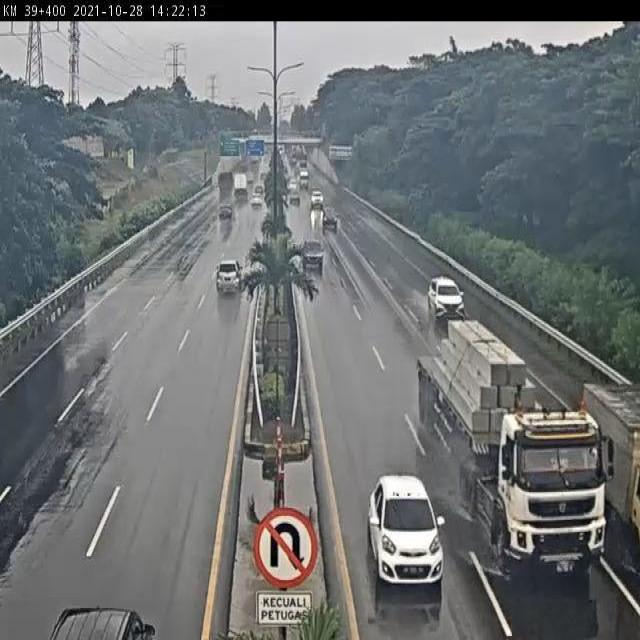car: (359, 473, 449, 587), (424, 274, 465, 318), (214, 256, 244, 295), (301, 237, 322, 268)
truck-xl-: (418, 317, 605, 567)
